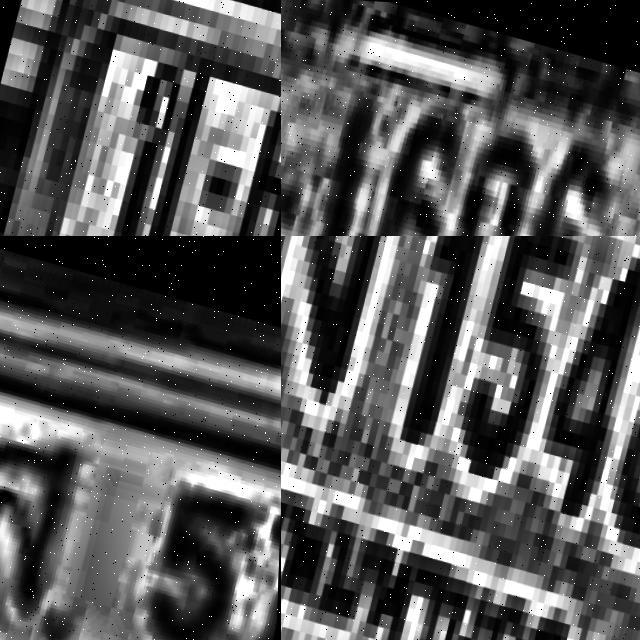license-plate: (281, 236, 640, 640), (0, 236, 281, 640), (281, 0, 640, 236), (0, 0, 281, 236)
